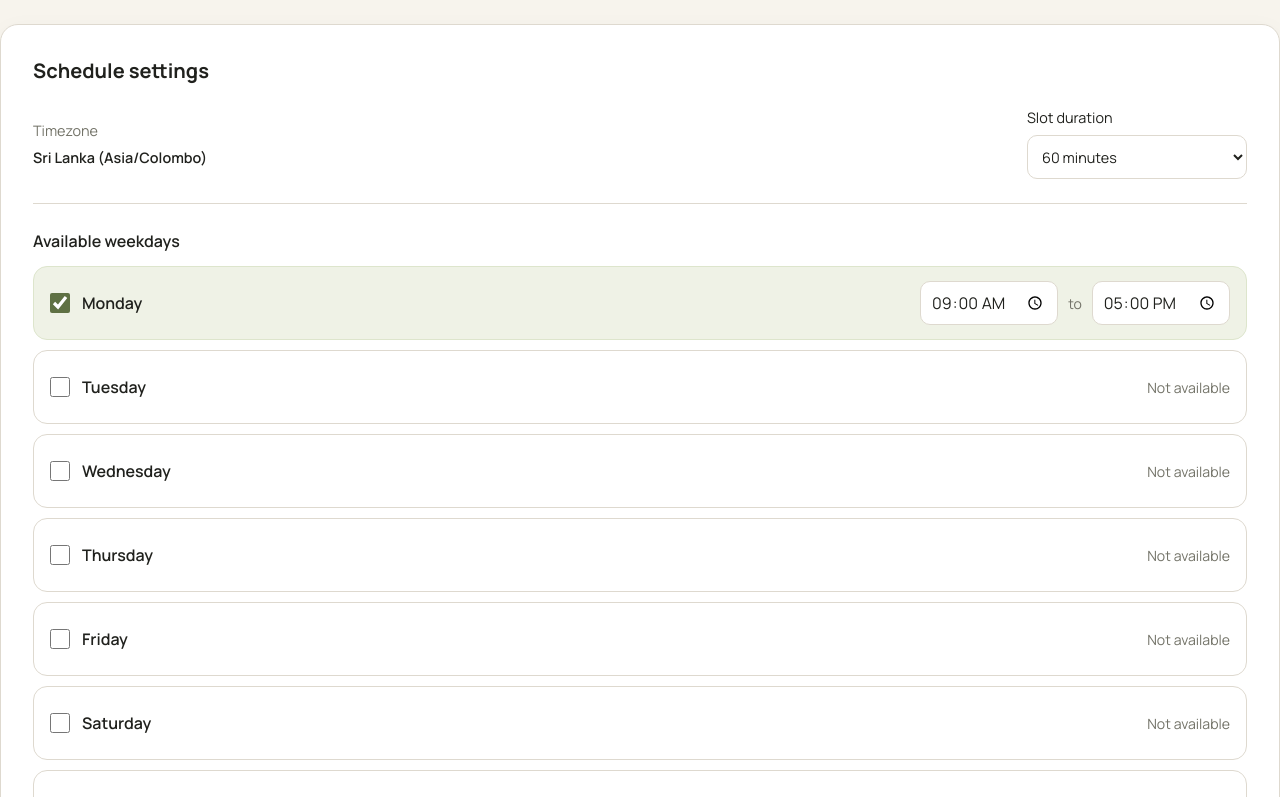
Scenario: Viewing availability editor › preserves unsaved input on save failure and can retry
Replace the text in the time field named "Monday end" with "18:00" at (1161, 303), box left=1092, top=281, right=1230, bottom=325
(page scrolled)
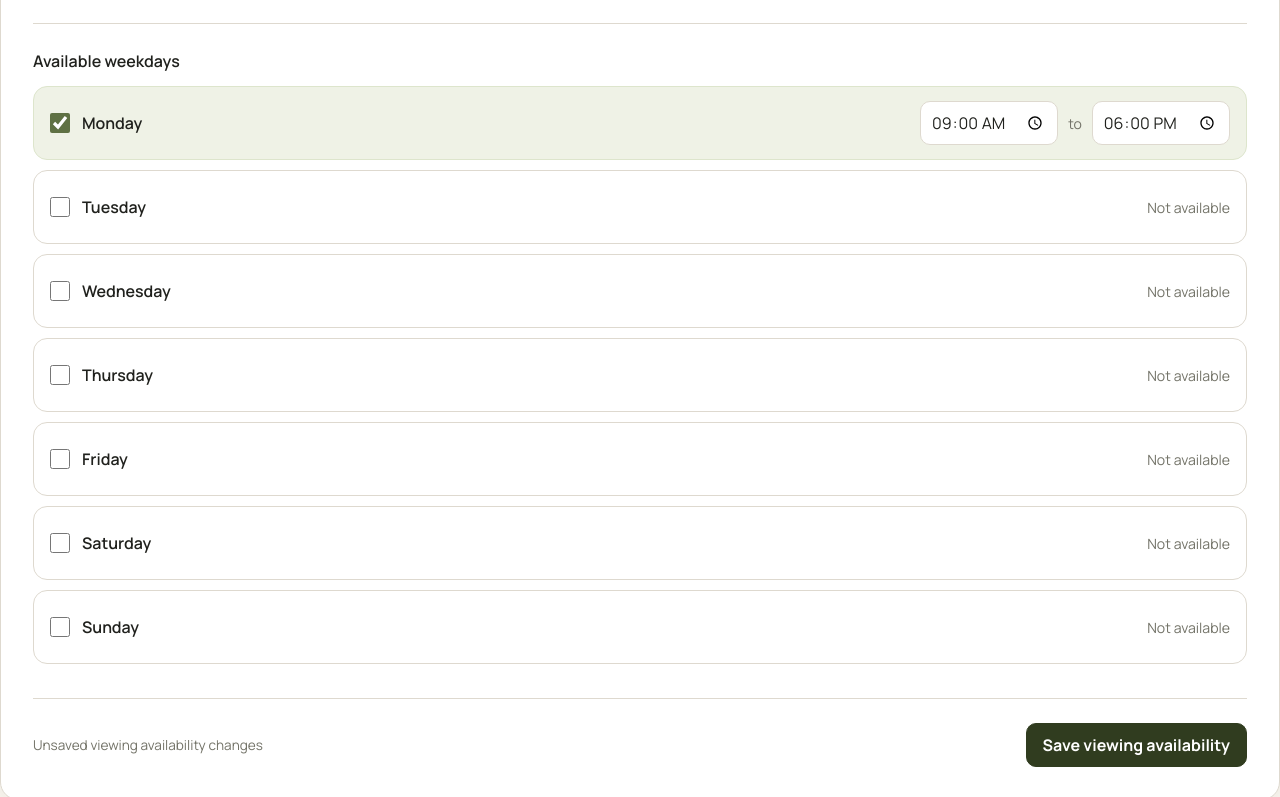
Click the button "Save viewing availability".
click(1136, 745)  # box left=1026, top=723, right=1247, bottom=767
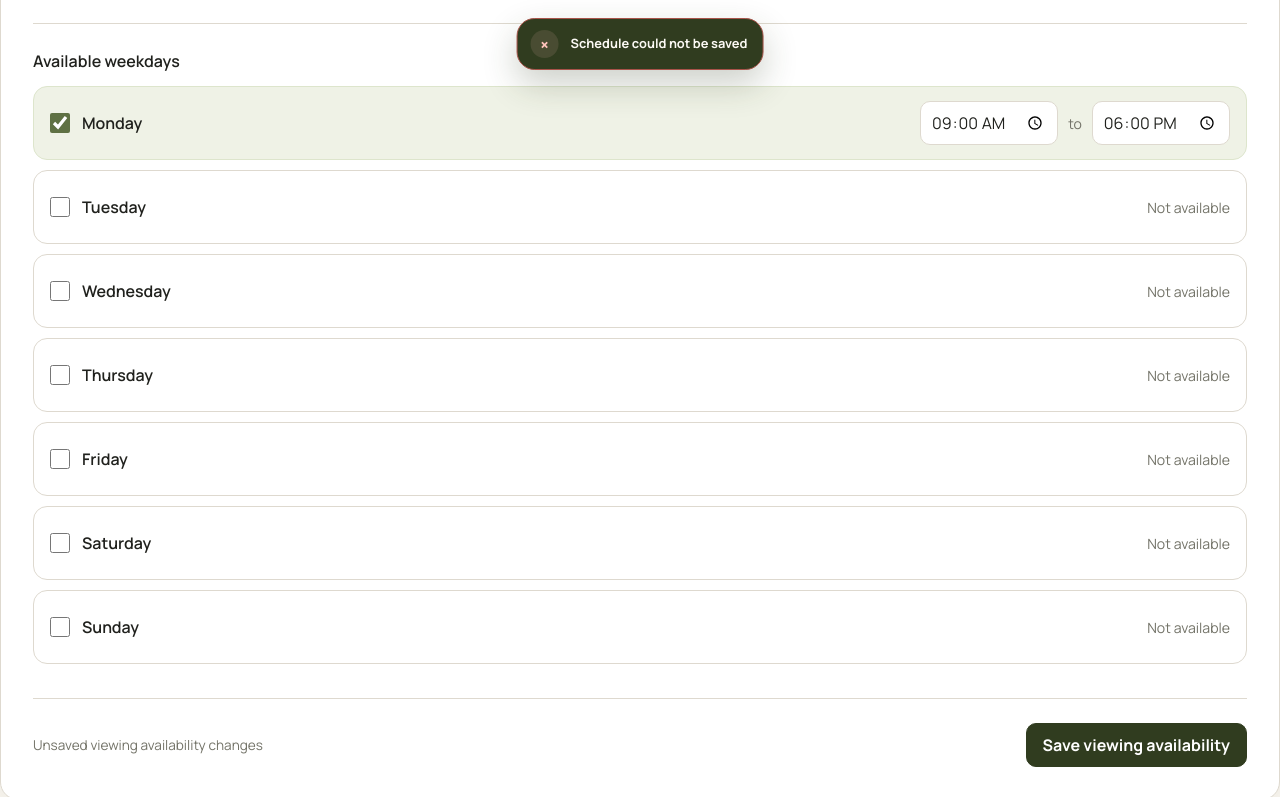
Check: the text "Unsaved viewing availability changes" is shown, box left=33, top=736, right=263, bottom=754
Check: the message "× Schedule could not be saved" is shown, box left=517, top=18, right=764, bottom=70
